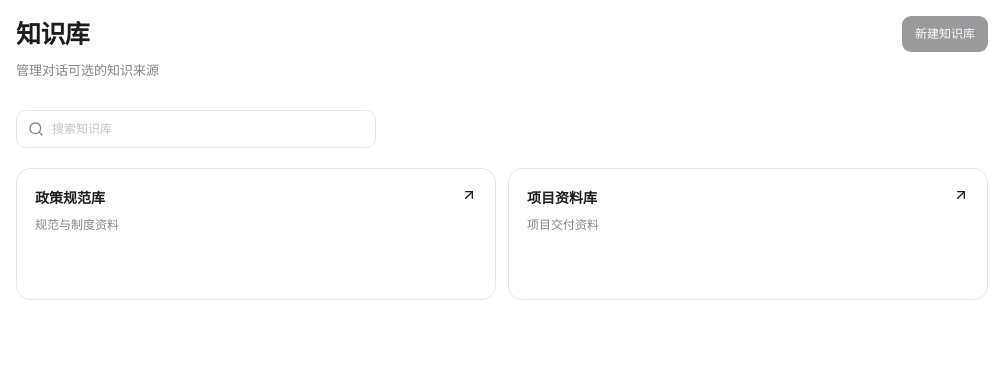
Test: ResourcePageTemplate › provides a searchable, replaceable fixture list and preserves mode links
expect the heading "知识库" is shown: met, box [16, 19, 89, 49]
expect the button with aria-label "新建知识库（待接入）" is disabled: met, box [902, 16, 988, 52]
Type "不存在" into the search field labelled "搜索知识库" at [208, 129], box [52, 120, 364, 138]
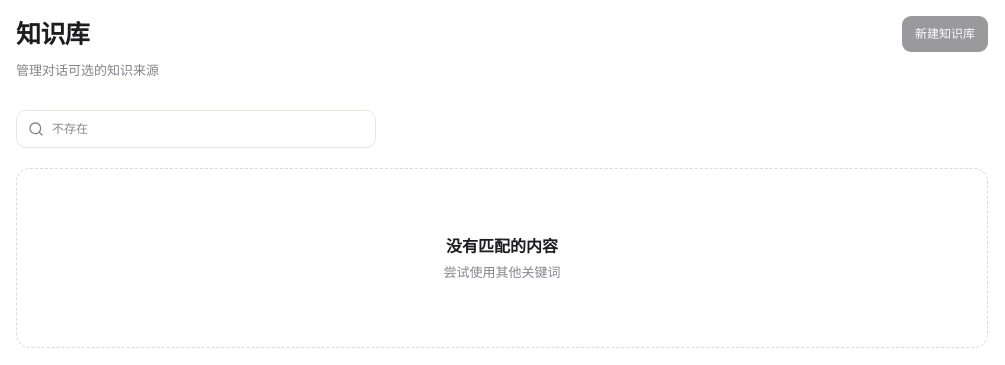
expect the text "没有匹配的内容" is shown: met, box [444, 234, 560, 258]
